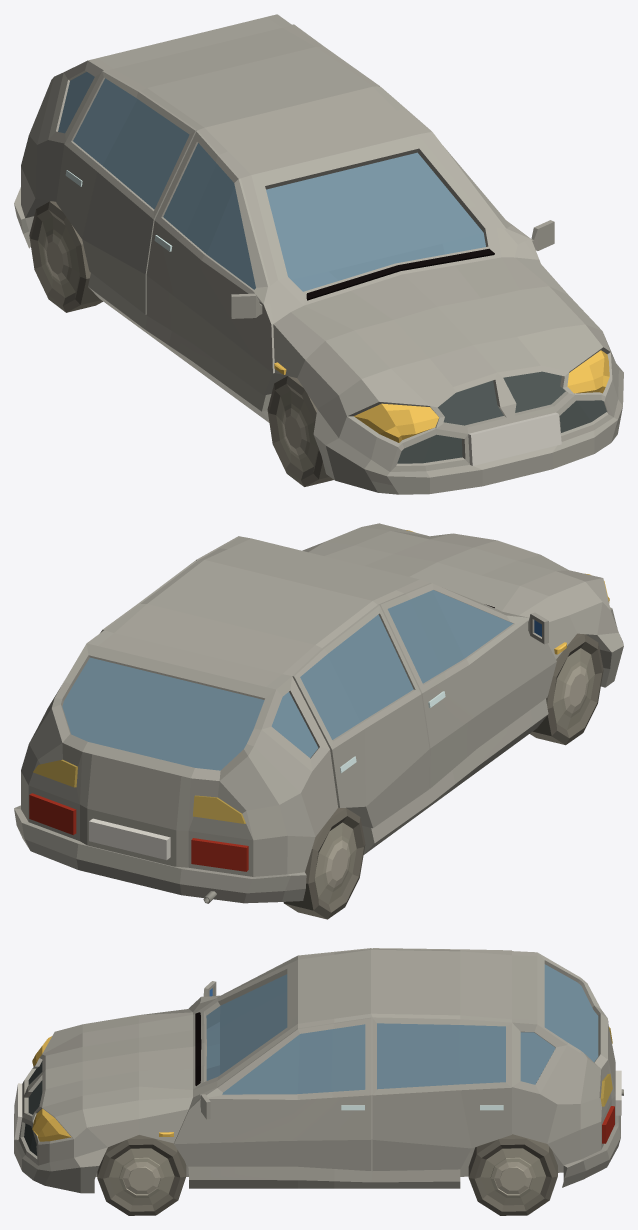
The model's file is Car_C.fbx.
3 renders of one model, top to bottom at view 1: azimuth 30°, elevation 25°; view 2: azimuth 150°, elevation 25°; view 3: azimuth 270°, elevation 25°, orthographic. The views are drawn at different scales.
Parts seen in each view (by area): view 1: Car_3, Wheel_1.019, Wheel_1.017; view 2: Car_3, Wheel_1.019, Wheel_1.017; view 3: Car_3, Wheel_1.018, Wheel_1.016.
Part boxes in pixels (bbox=[...]): Car_3: bbox=[14, 14, 623, 494]; Wheel_1.019: bbox=[29, 201, 102, 312]; Wheel_1.017: bbox=[267, 376, 333, 486]; Car_3: bbox=[14, 523, 623, 903]; Wheel_1.019: bbox=[283, 807, 365, 919]; Wheel_1.017: bbox=[530, 633, 603, 745]; Car_3: bbox=[14, 948, 623, 1193]; Wheel_1.018: bbox=[468, 1134, 557, 1215]; Wheel_1.016: bbox=[97, 1135, 186, 1215].
Size of the model in its own units: 214 by 149 by 454.
